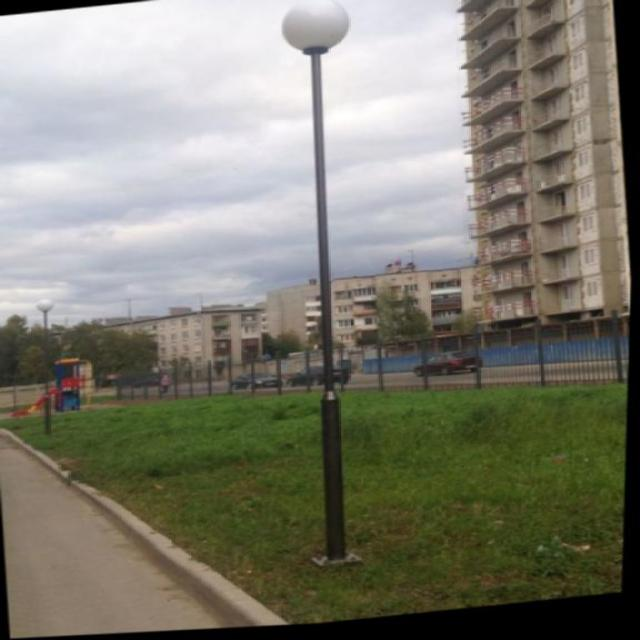pole: (281, 83, 380, 588)
